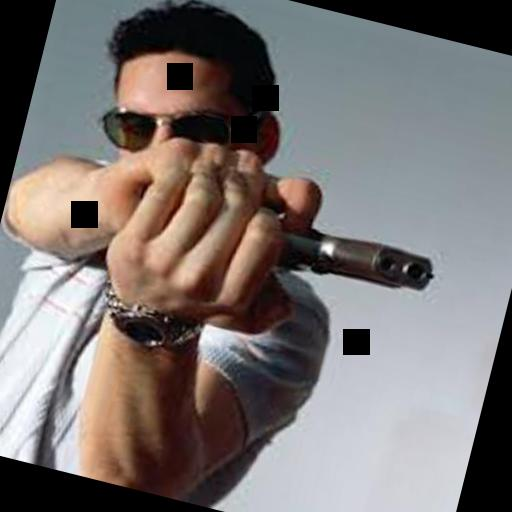Handgun: (196, 184, 446, 312)
